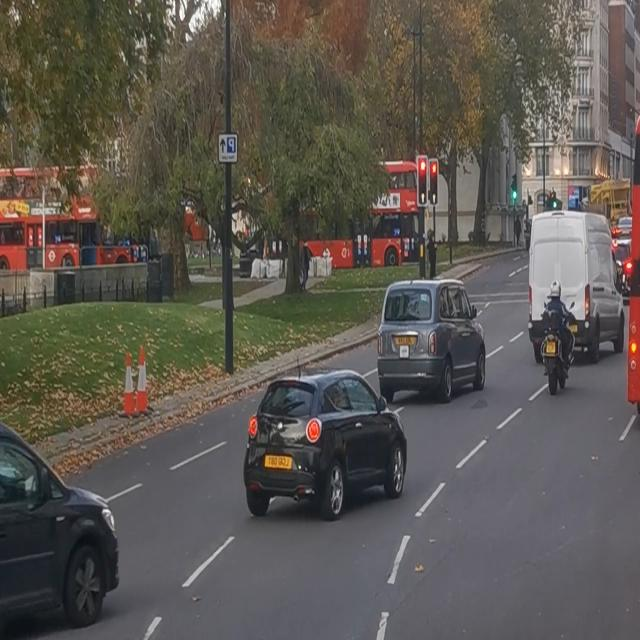Car: (244, 362, 408, 520), (528, 197, 627, 360), (378, 280, 488, 411)
